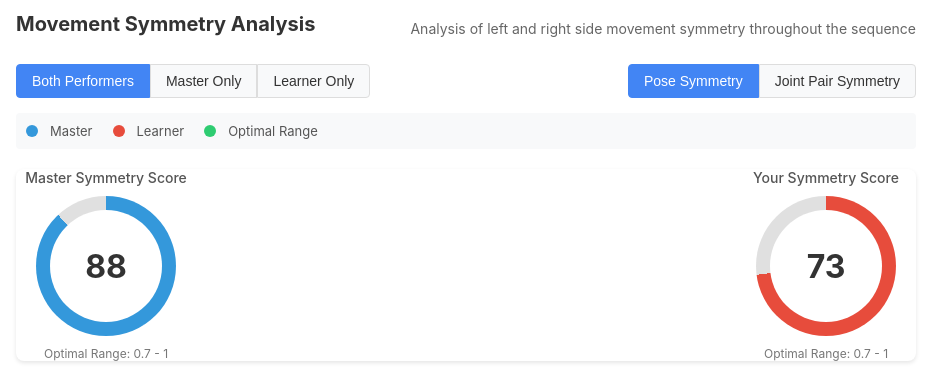
SymmetryChart Component › Display Mode Controls › learner only mode hides master gauge
Click the button "Learner Only": (314, 81) [257, 64, 370, 98]
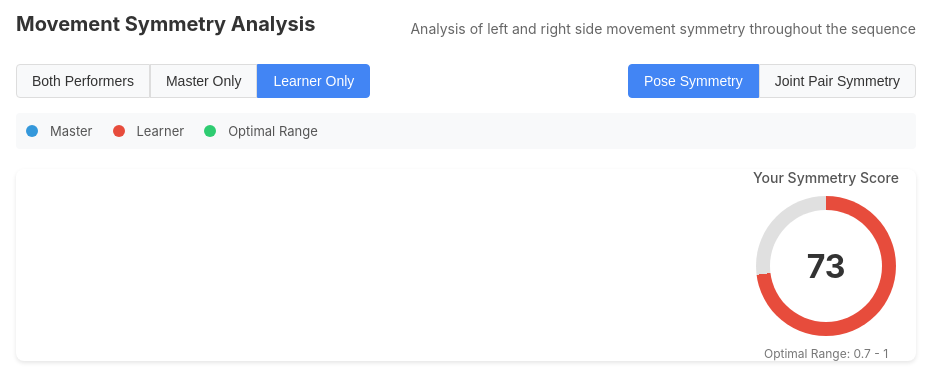
Check: the heading "Your Symmetry Score" is shown, box [753, 169, 899, 186]
Check: the heading "Master Symmetry Score" is gone
